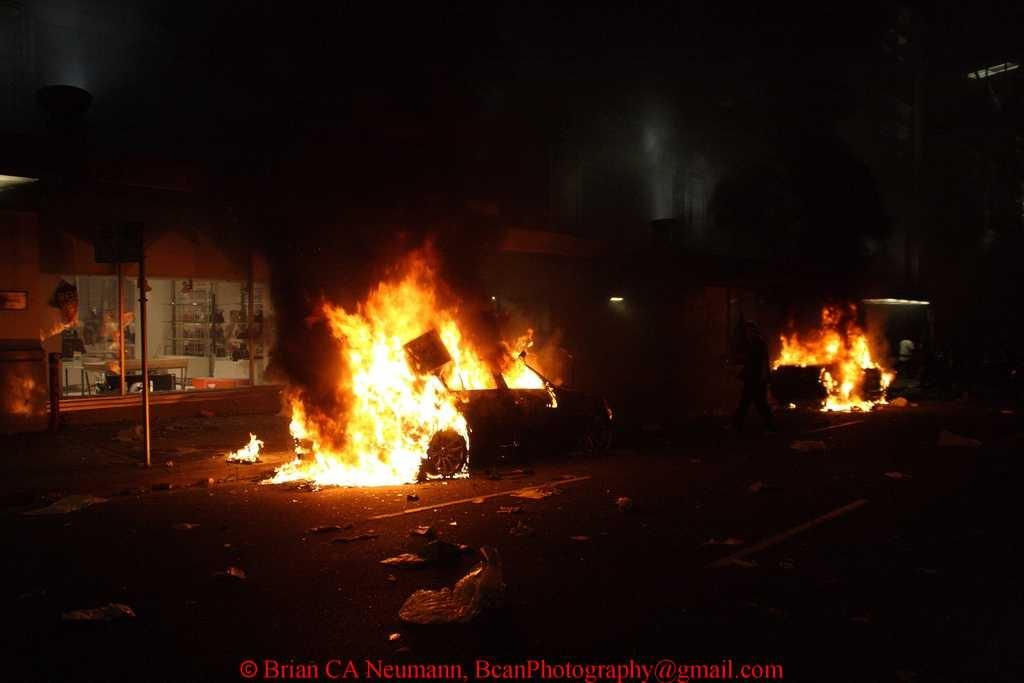fire: (316, 295, 476, 476), (770, 313, 916, 420)
